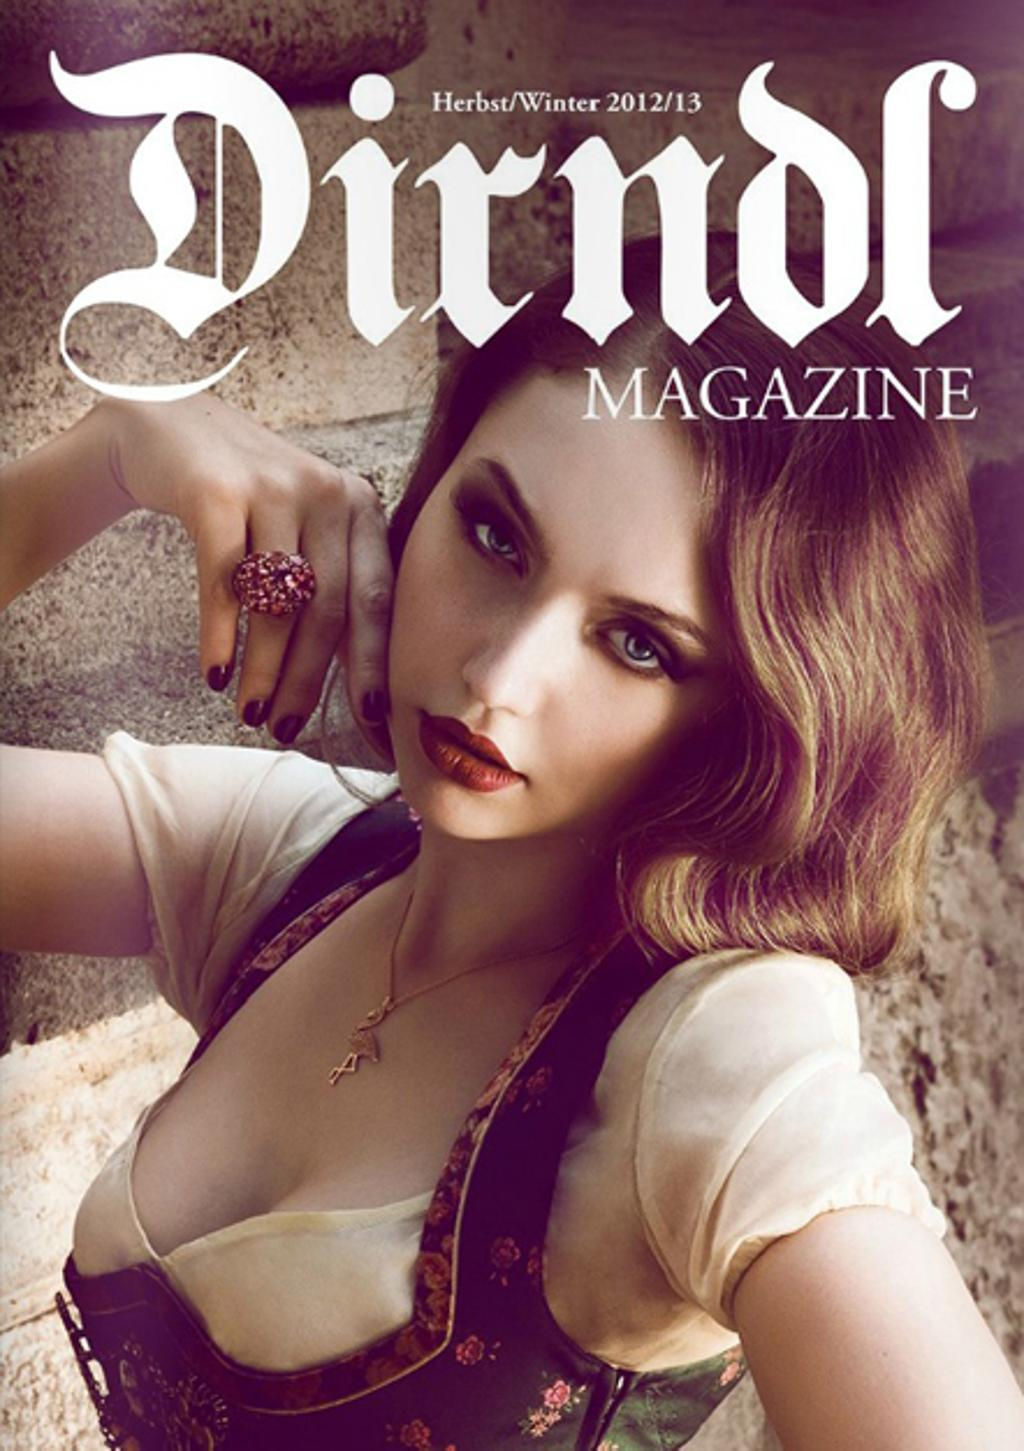face: (391, 377, 750, 830)
